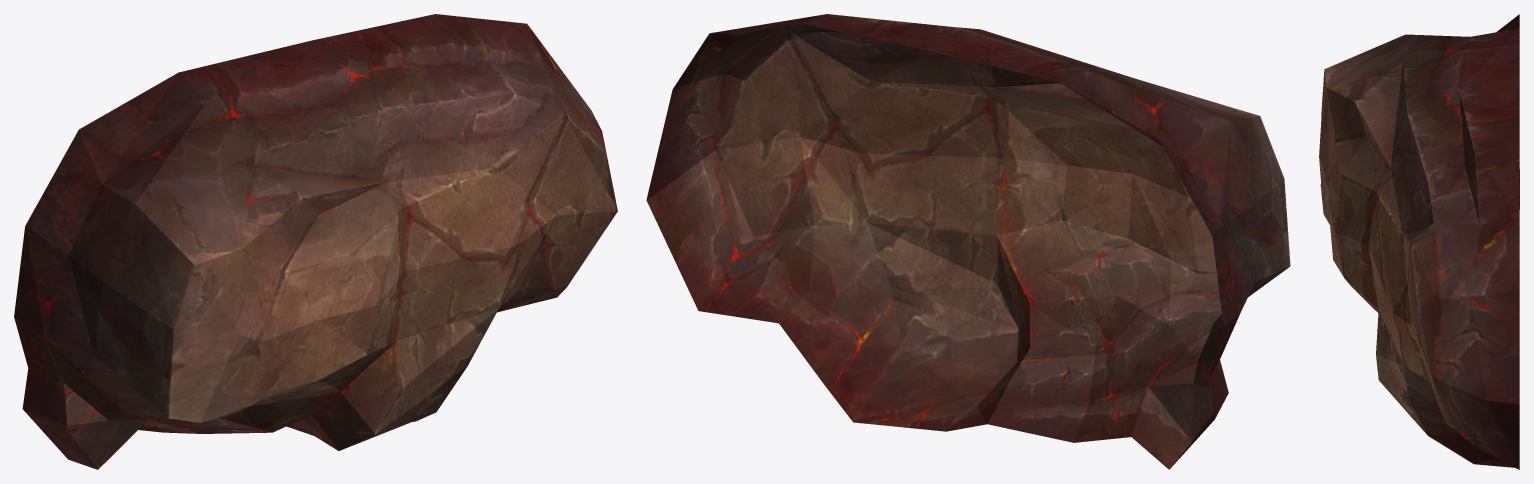
File: huodong_fuben_653_shitou_09.obj
3 views of the same model, side by side, from view 1: azimuth 30°, elevation 25°; view 2: azimuth 150°, elevation 25°; view 3: azimuth 270°, elevation 25° (orthographic). The views are drawn at different scales.
Parts seen in each view (by area): view 1: huodong_fuben_653_shitou_09; view 2: huodong_fuben_653_shitou_09; view 3: huodong_fuben_653_shitou_09.
Boxes of the visible parts, left/top/right/bottom form: huodong_fuben_653_shitou_09: left=14, top=14, right=617, bottom=469; huodong_fuben_653_shitou_09: left=646, top=14, right=1290, bottom=469; huodong_fuben_653_shitou_09: left=1319, top=14, right=1519, bottom=469.
Bounding box in the file's own units: 195 × 126 × 65.44.
1 material, 1 textured.
